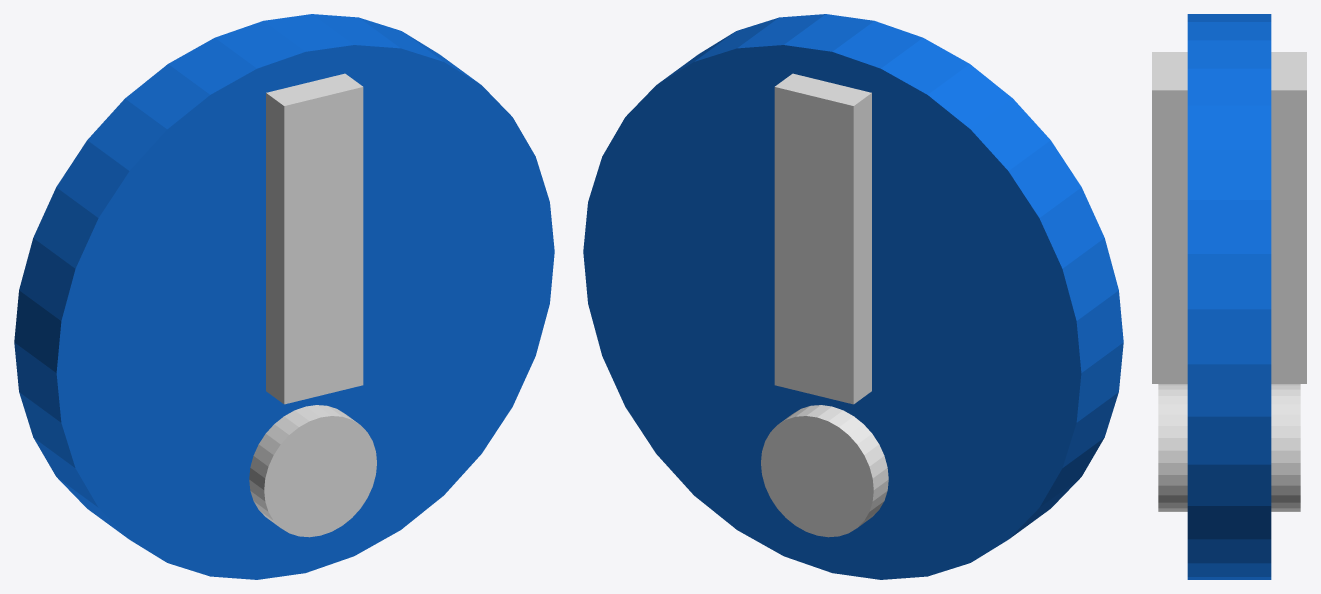
File: Info.glb
3 renders of one model, left to right at view 1: azimuth 30°, elevation 25°; view 2: azimuth 150°, elevation 25°; view 3: azimuth 270°, elevation 25°, orthographic.
Parts seen in each view (by area): view 1: Cylinder, Cube, Cylinder.001; view 2: Cylinder, Cube, Cylinder.001; view 3: Cylinder, Cube, Cylinder.001.
Boxes of the visible parts, bbox=[...] form: Cylinder: bbox=[14, 14, 554, 579]; Cube: bbox=[266, 73, 363, 404]; Cylinder.001: bbox=[249, 405, 376, 537]; Cylinder: bbox=[583, 14, 1123, 579]; Cube: bbox=[774, 73, 871, 404]; Cylinder.001: bbox=[761, 405, 888, 537]; Cylinder: bbox=[1187, 14, 1271, 579]; Cube: bbox=[1152, 52, 1306, 383]; Cylinder.001: bbox=[1158, 384, 1300, 511].
Size of the model in its own units: 2 by 2 by 0.5471.
